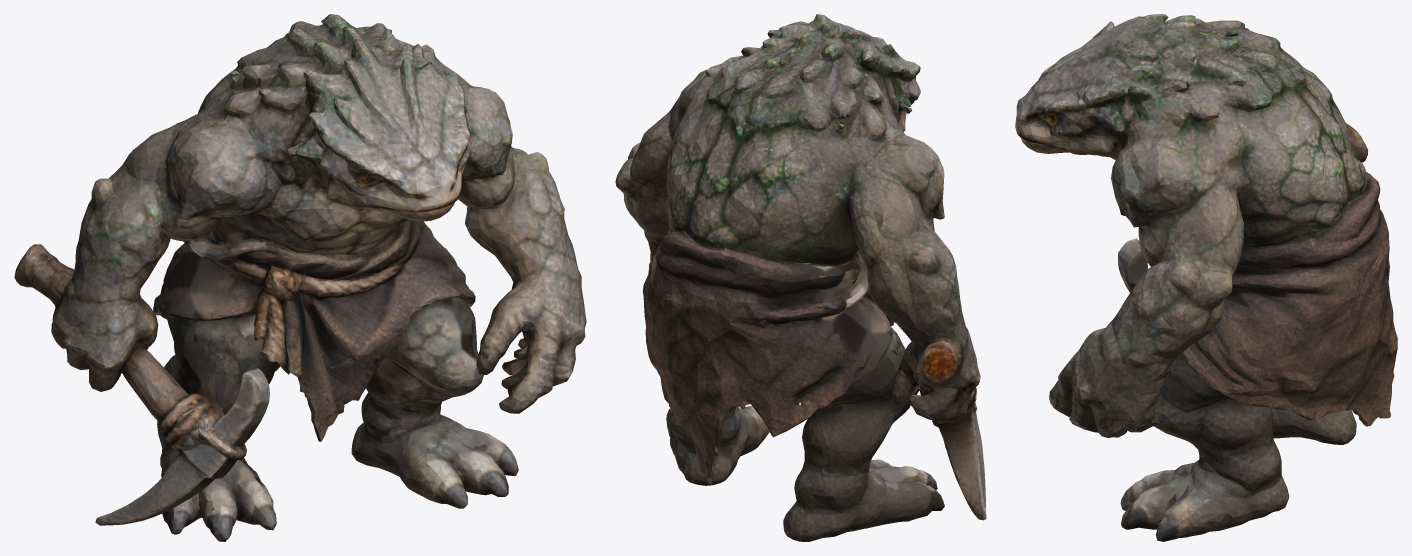
The model's file is foe_zokujin_miner.glb.
3 views of the same model, side by side, from view 1: azimuth 30°, elevation 25°; view 2: azimuth 150°, elevation 25°; view 3: azimuth 270°, elevation 25° (orthographic). The views are drawn at different scales.
Parts seen in each view (by area): view 1: temp_mesh.ply; view 2: temp_mesh.ply; view 3: temp_mesh.ply.
Part boxes in pixels (x1,y1,x2,y2): temp_mesh.ply: (14,14,586,541); temp_mesh.ply: (615,14,986,541); temp_mesh.ply: (1015,14,1397,541).
Bounding box in the file's own units: 1.93 × 1.97 × 1.49.
1 material, 1 textured.
